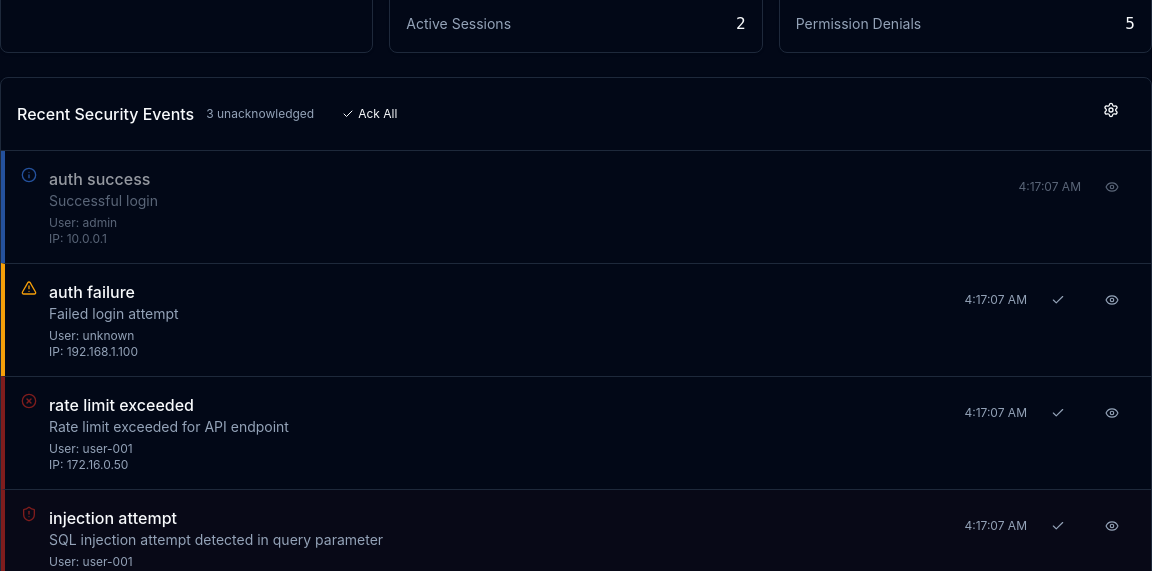
Scenario: SecurityEvents › opens investigation panel on investigate click
Expected: the text "Successful login" is shown, [49,191,158,211]
Click the button titled "Investigate" at (1112, 187), box [1089,167,1135,207]
(page scrolled)
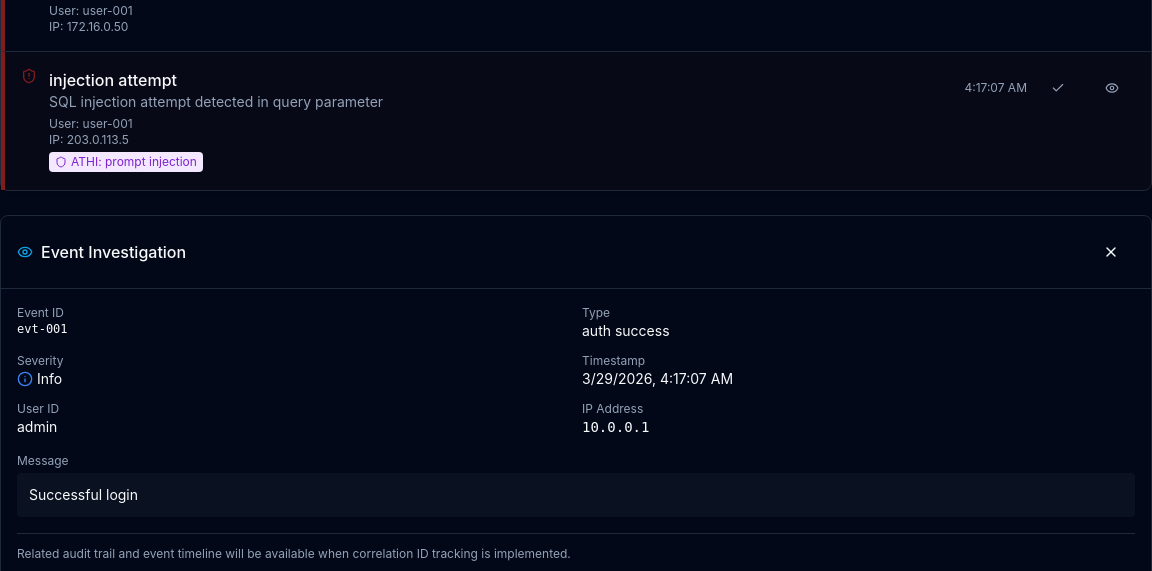
Expected: the heading "Event Investigation" is shown, [17,240,186,264]
